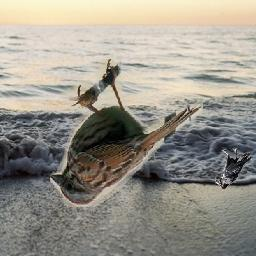Crow: (216, 147, 253, 190)
Sparrow: (51, 59, 204, 207)
